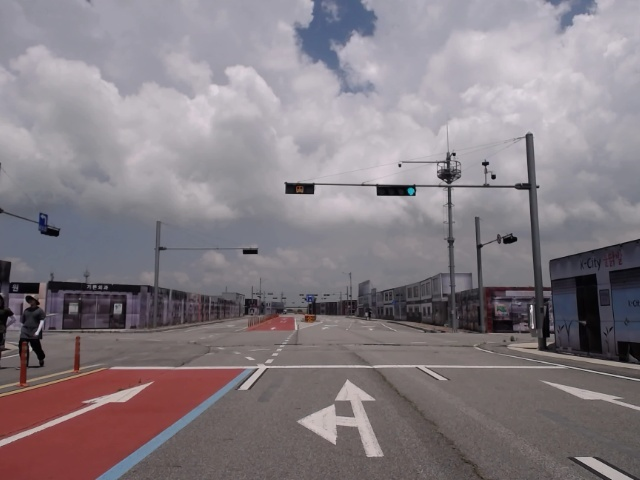straight_green_4: (376, 184, 416, 195)
